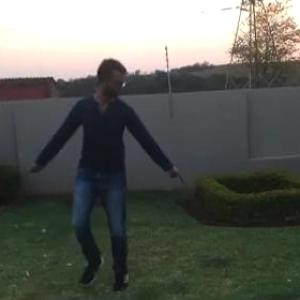land: (10, 63, 189, 295)
